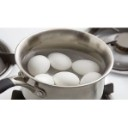begg: (30, 56, 50, 74), (74, 60, 100, 73)
